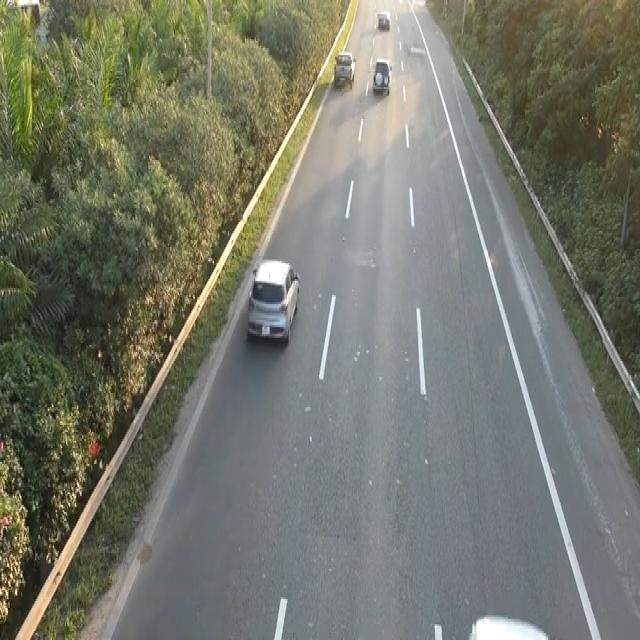car: (371, 55, 392, 96)
lorry: (244, 254, 303, 352)
